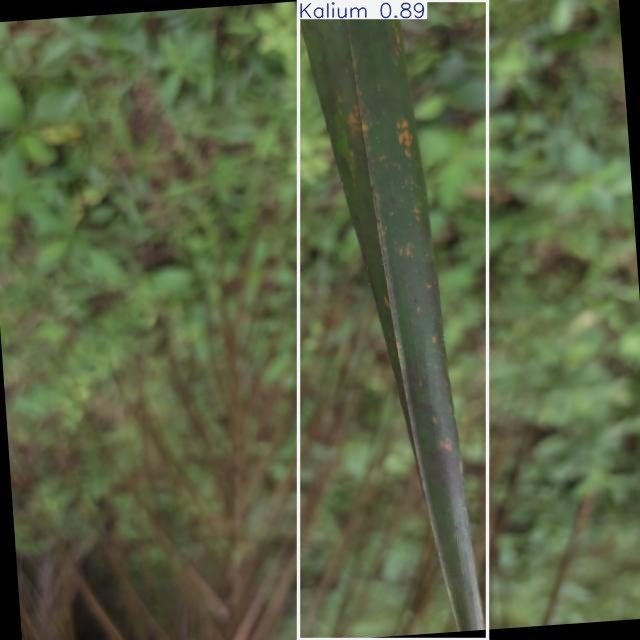Kalium: (299, 1, 488, 640)
